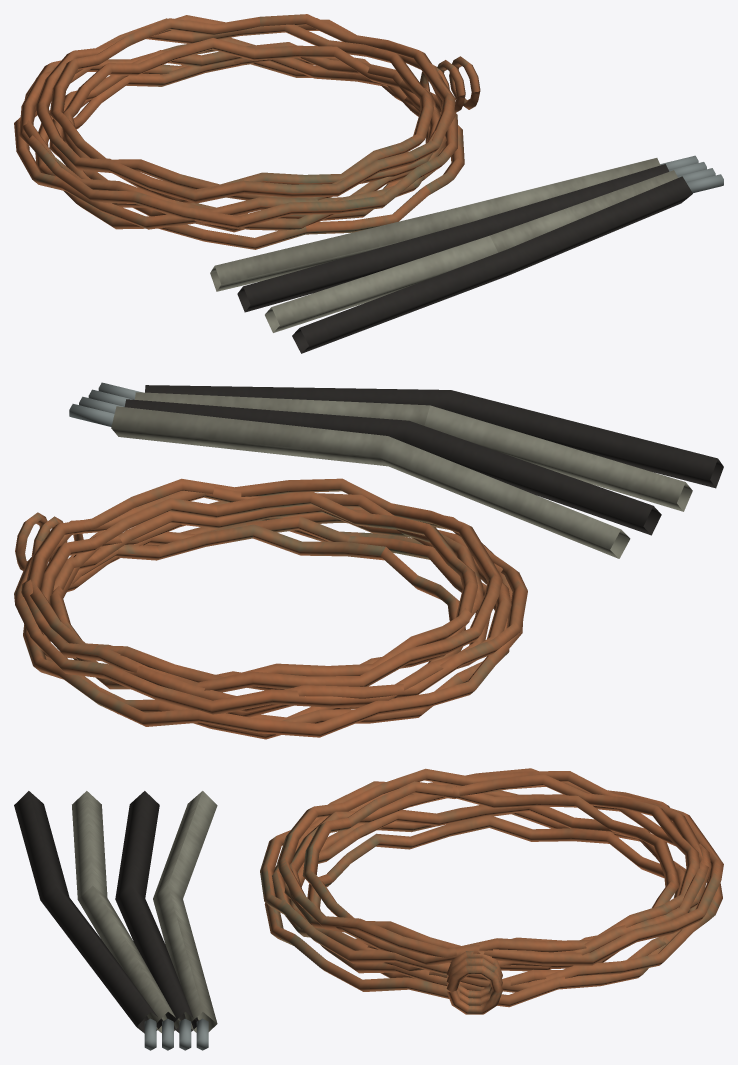
File: prop_wires_01.gltf
The picture shows the model from 3 angles, top to bottom: view 1: azimuth 30°, elevation 25°; view 2: azimuth 150°, elevation 25°; view 3: azimuth 270°, elevation 25°; orthographic projection. The views are drawn at different scales.
Visible parts, largest first — view 1: prop_wires_01_item_atlas_01; view 2: prop_wires_01_item_atlas_01; view 3: prop_wires_01_item_atlas_01.
Part boxes in pixels (x1,y1,x2,y2): prop_wires_01_item_atlas_01: (14,14,723,353); prop_wires_01_item_atlas_01: (14,382,723,739); prop_wires_01_item_atlas_01: (14,768,723,1050).
Bounding box in the file's own units: 0.1038 × 0.0128 × 0.1226.
Materials: 1 (1 with a texture image).
